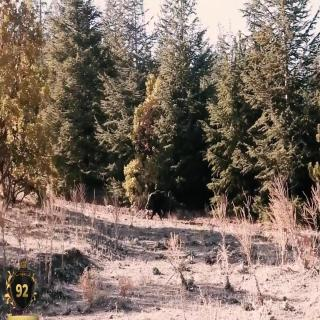Pig: (142, 181, 180, 217)
